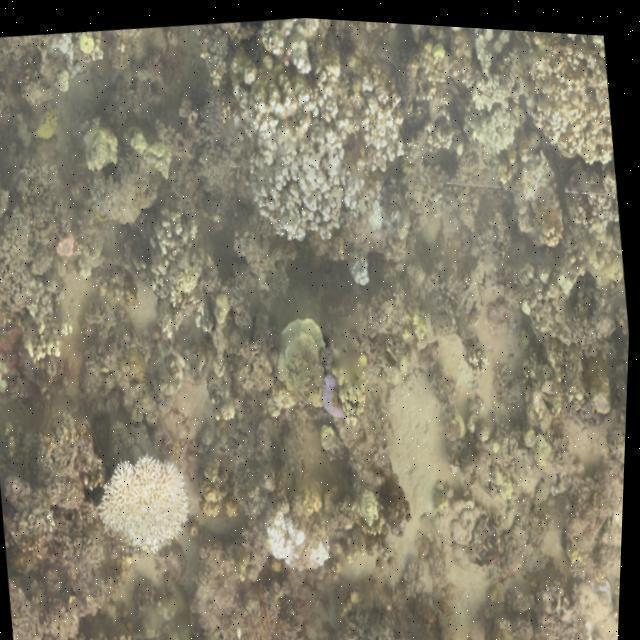Bleached Coral: (241, 84, 352, 227), (87, 438, 202, 560), (454, 22, 533, 155), (350, 71, 415, 162), (337, 237, 381, 289)
